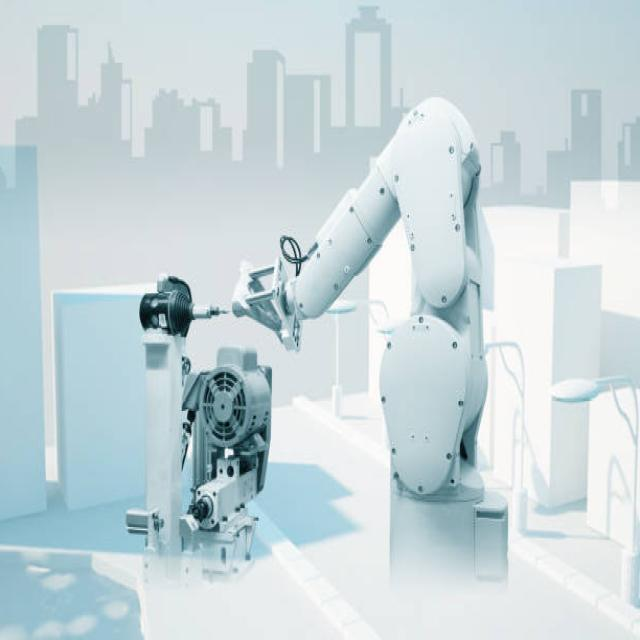Robotic-arm: (138, 87, 490, 594)
